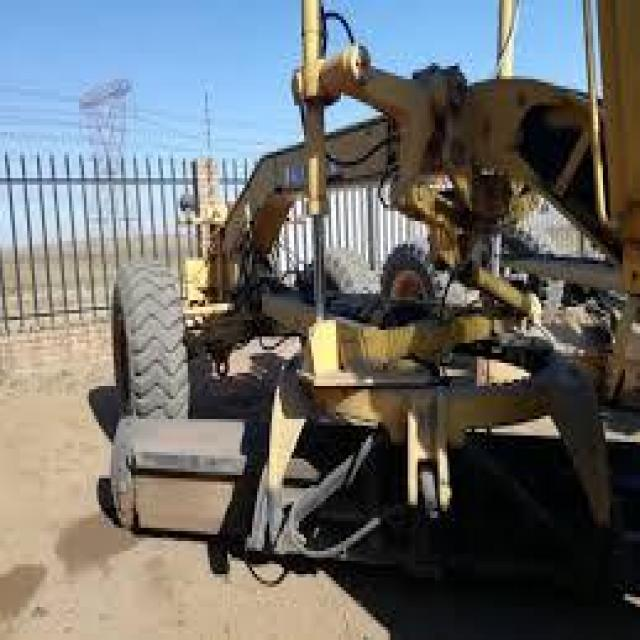Grader: (98, 36, 628, 620)
